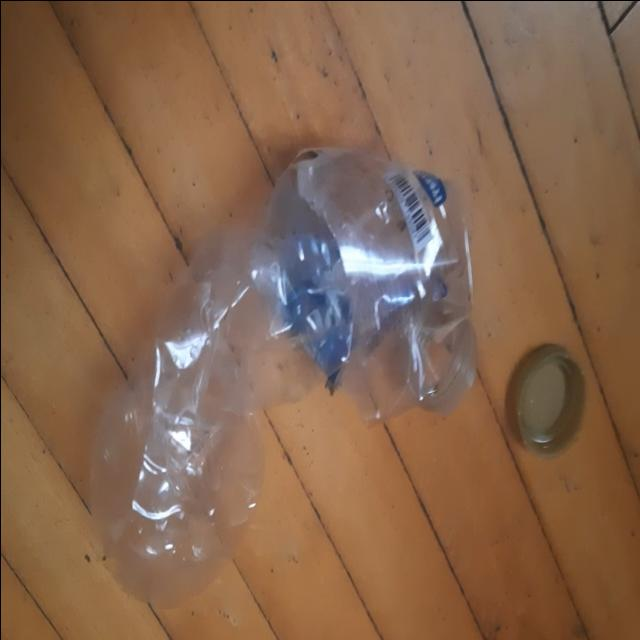Plastic: (89, 147, 475, 609)
